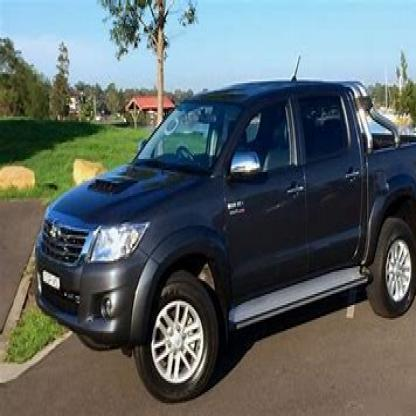light_vehicle: (30, 65, 415, 405)
